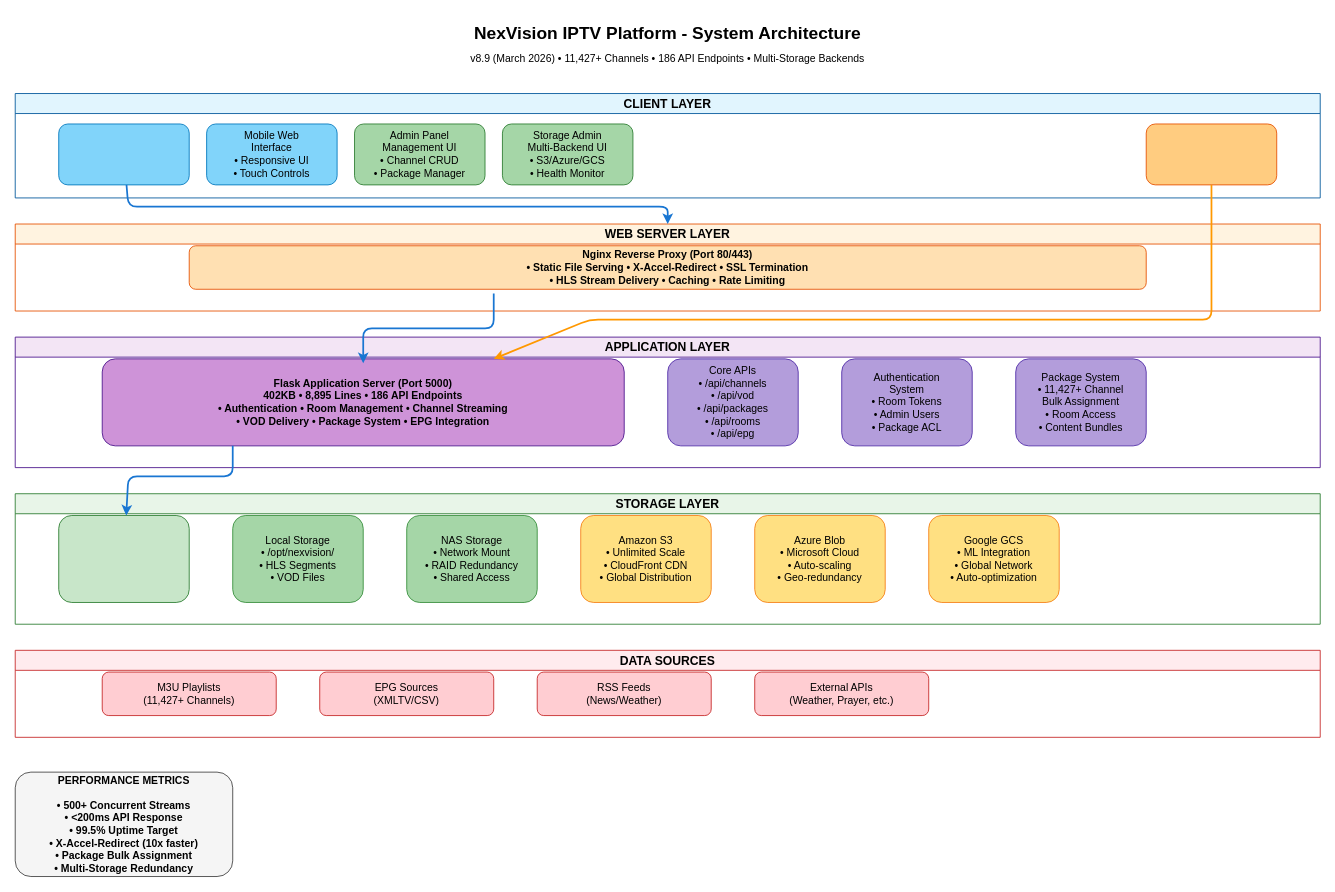
Some shapes in this 1335 by 892 pixel diagram are drawn without their labels. The shapes that lost their labels are listed below. From the top down, each one's centre as x and y in pixels, then its label:
point 123,154: TV Client (HTML5 - 199KB) • HLS Player • Room Registration
point 1211,154: External APIs • EPG Sources • Weather API • RSS Feeds
point 123,558: SQLite Database (4.9MB+) • 30 Tables • 11,427+ Channels • 20 Rooms
